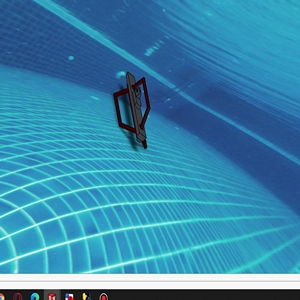submarine: (114, 71, 151, 146)
